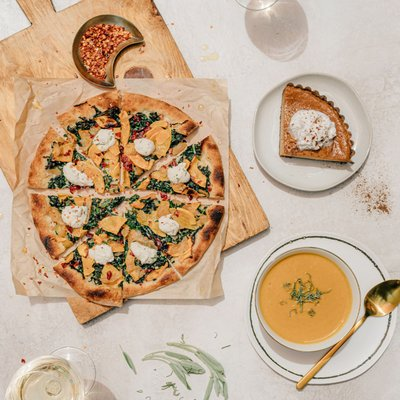pizza: (243, 0, 309, 62)
salad: (296, 279, 400, 390)
soup: (279, 83, 354, 162)
